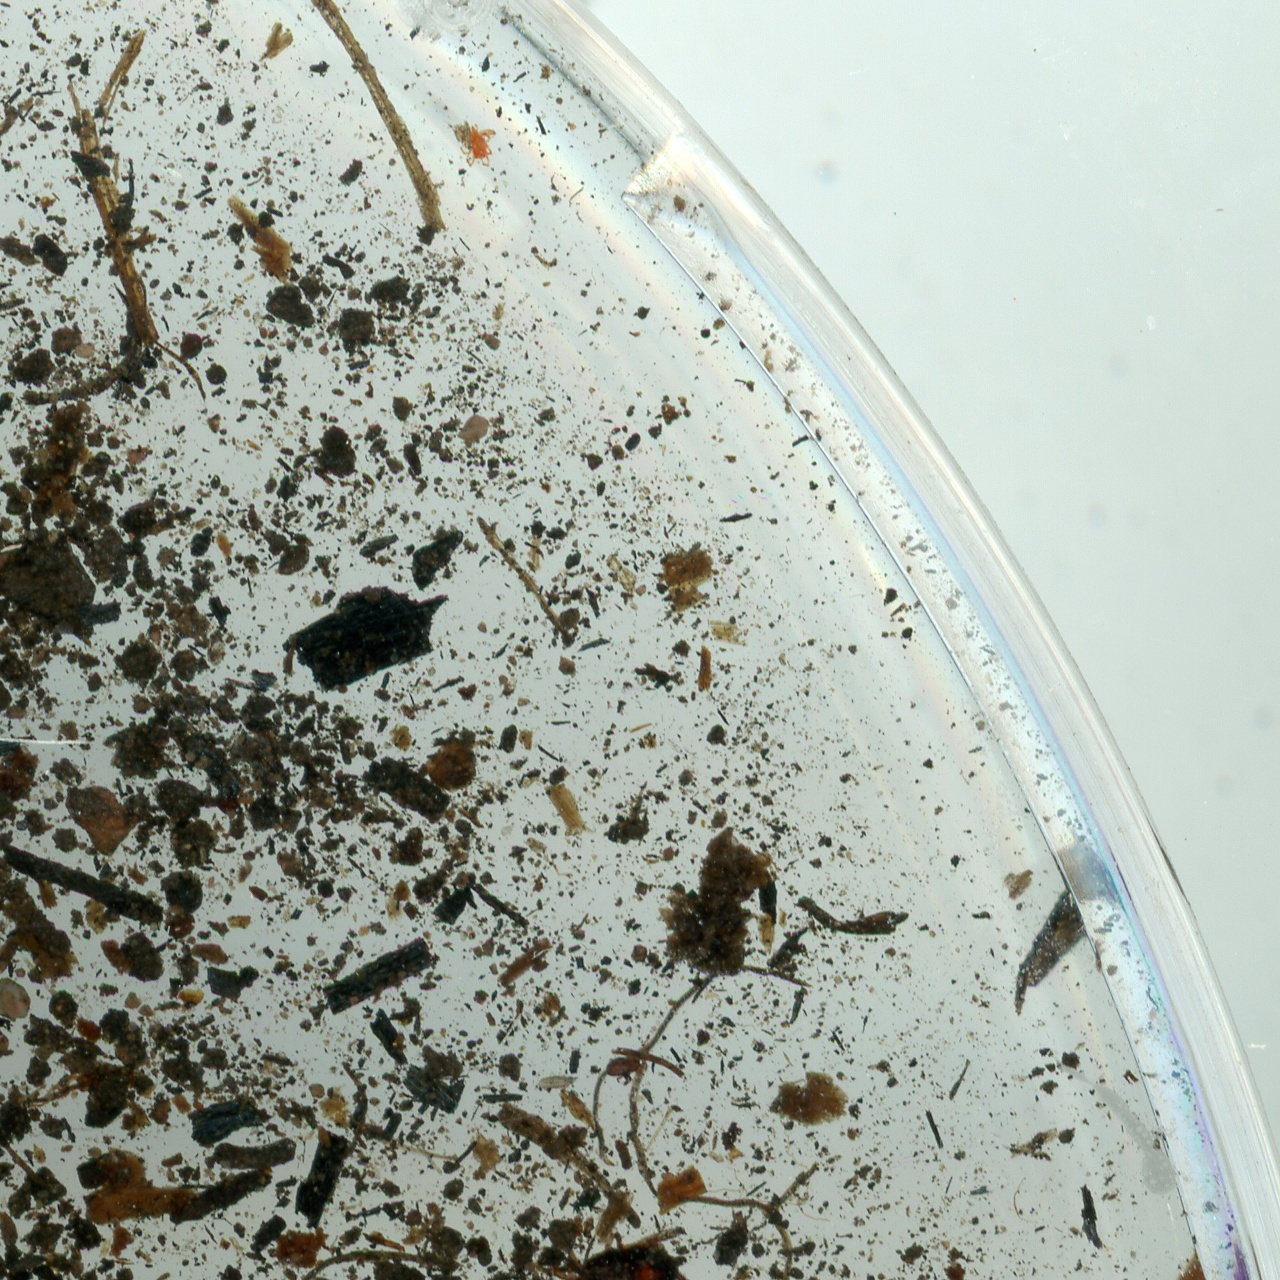arthropod: (474, 1187, 696, 1280), (19, 1267, 180, 1280), (459, 122, 499, 168)
